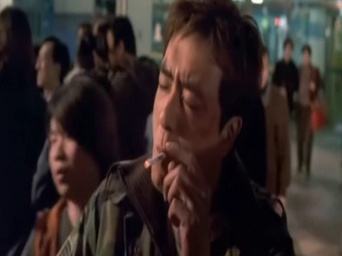smoke: (143, 154, 166, 168)
